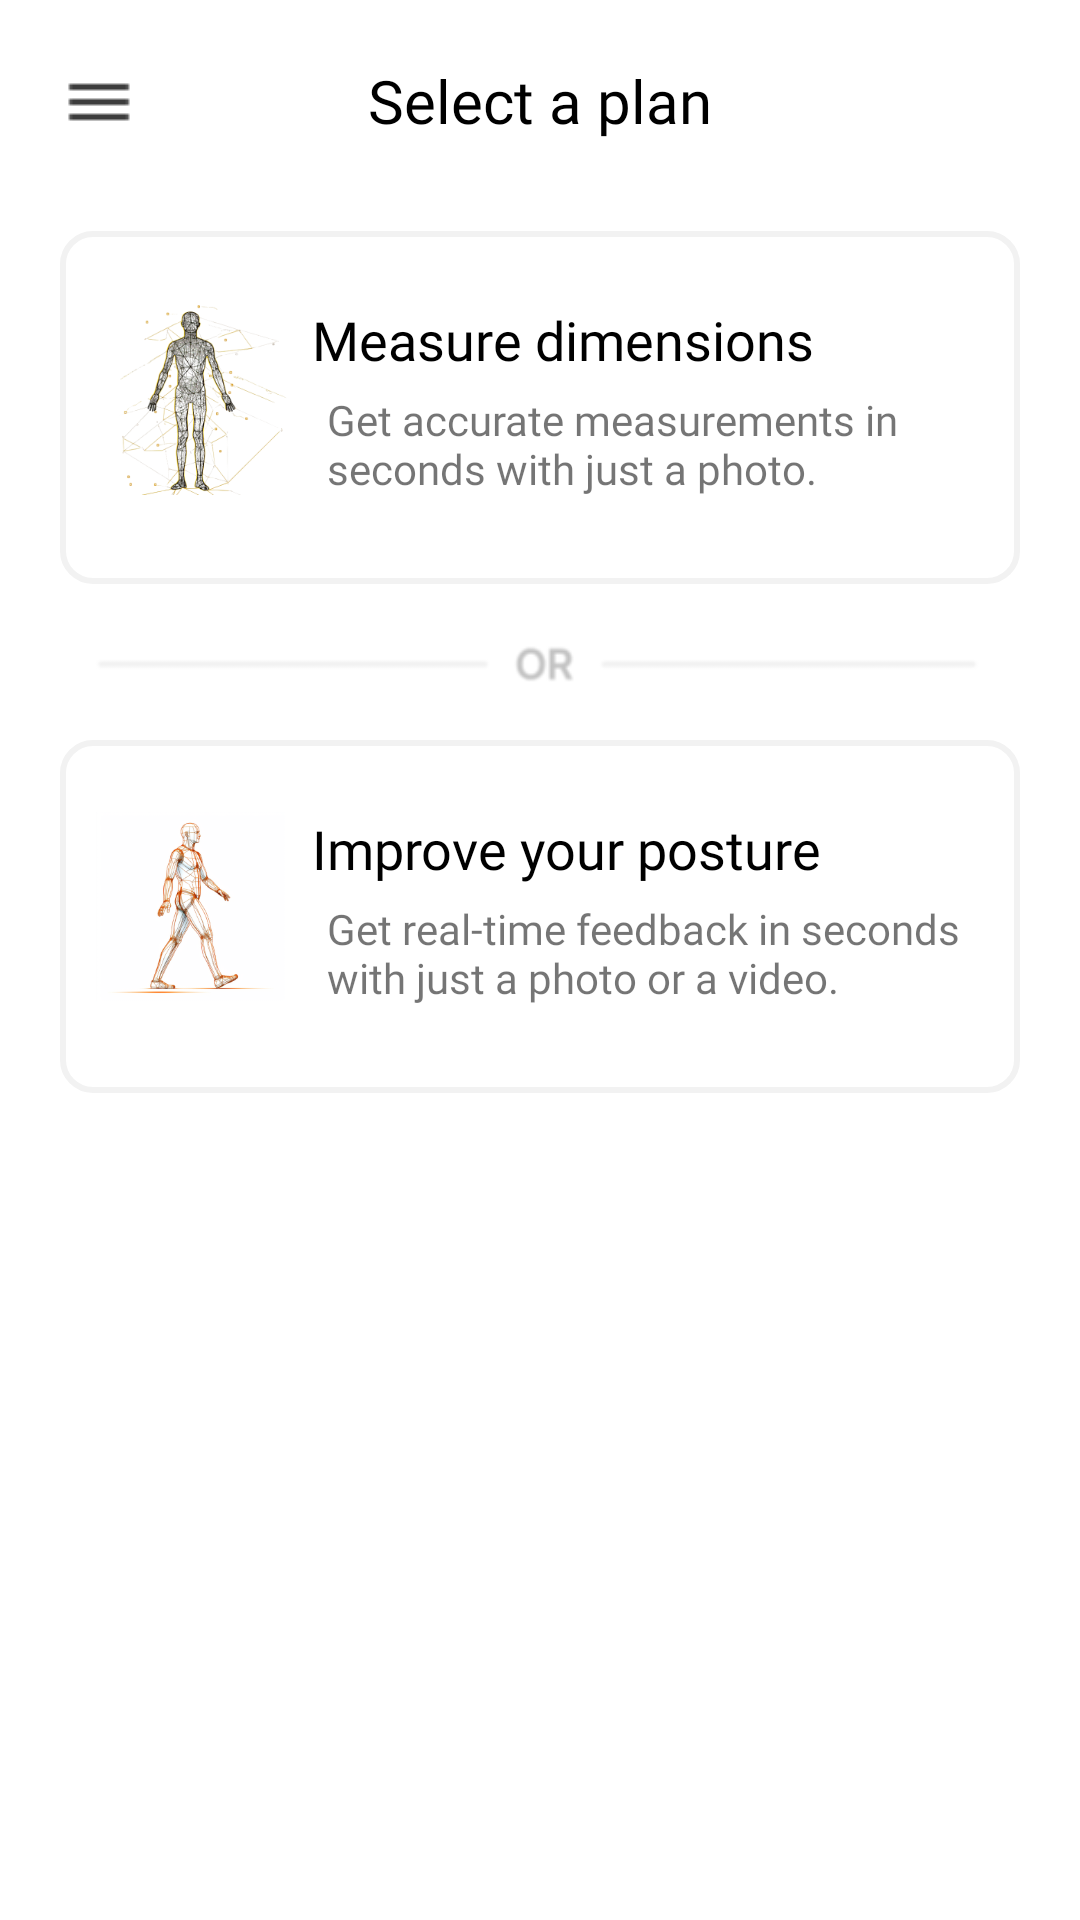

Point at icon controls on the screen. Image size 1080px x 1920px, points as [x,y].
menu: [99,102]
